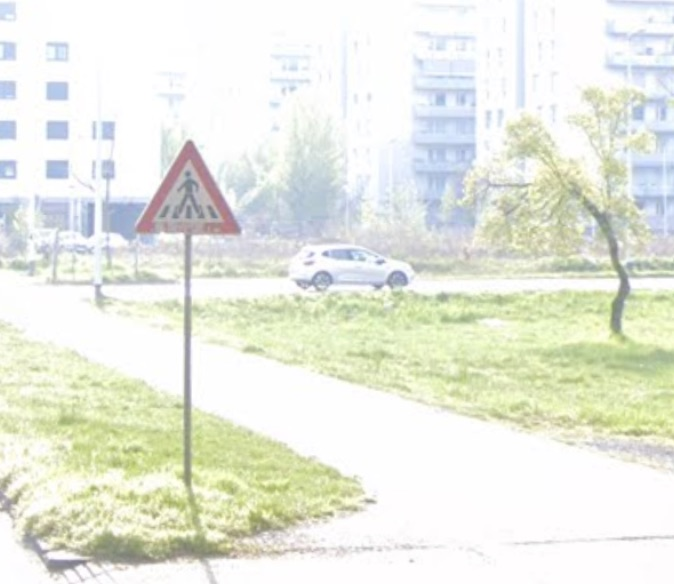Približavanje pješačkom prijelazu: (133, 139, 241, 236)
